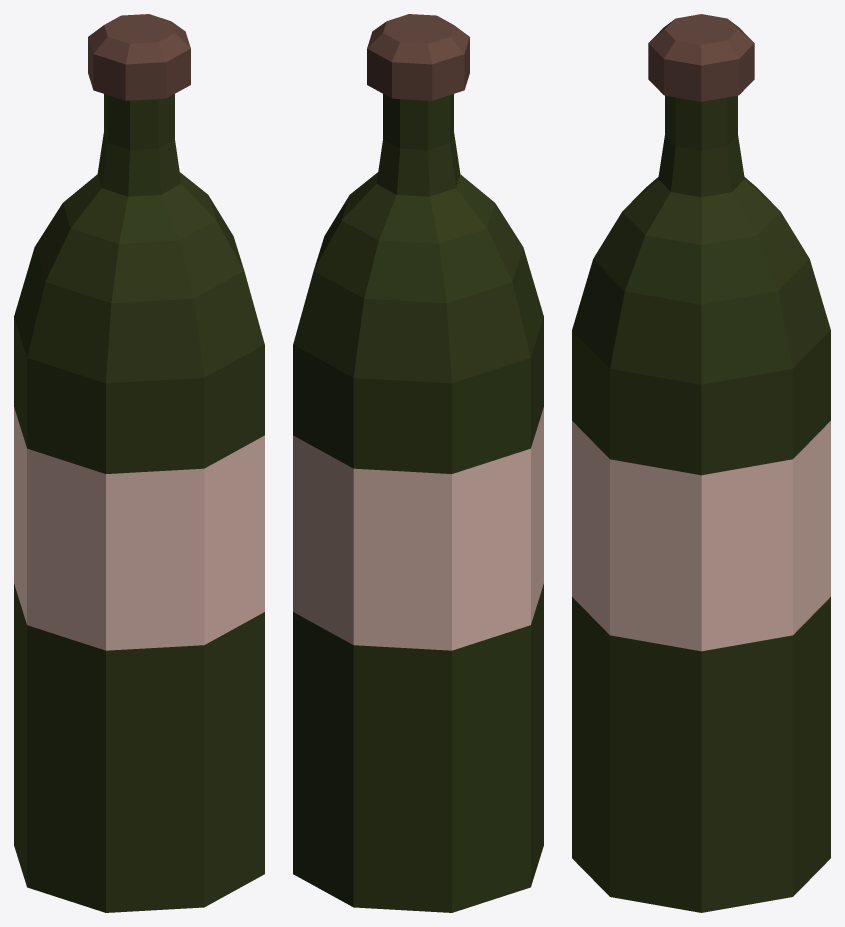
Rendered from bottle.gltf.
The picture shows the model from 3 angles, left to right: view 1: azimuth 30°, elevation 25°; view 2: azimuth 150°, elevation 25°; view 3: azimuth 270°, elevation 25°; orthographic projection.
Visible parts, largest first — view 1: Cylinder; view 2: Cylinder; view 3: Cylinder.
Part boxes in pixels (x1,y1,x2,y2): Cylinder: (14,14,264,912); Cylinder: (293,14,543,912); Cylinder: (572,14,830,912).
Bounding box in the file's own units: 0.7758 × 2.74 × 0.7758.
Materials: 1 (1 with a texture image).
